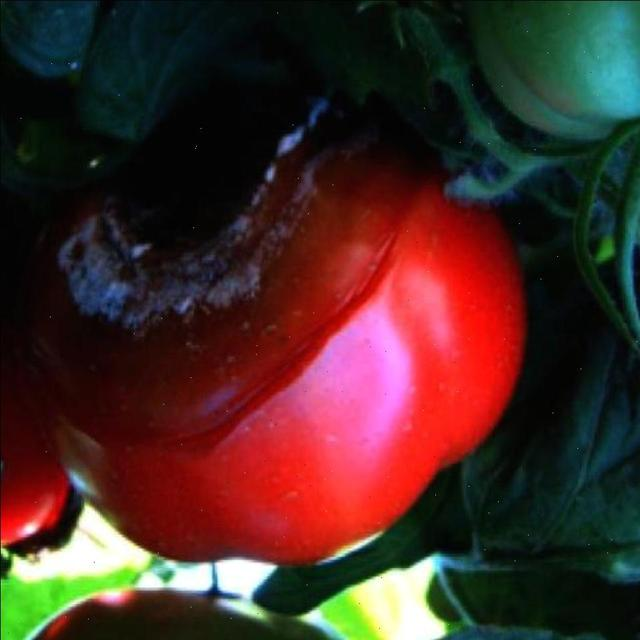Blossom End Rot Fruit: (52, 55, 259, 222)
